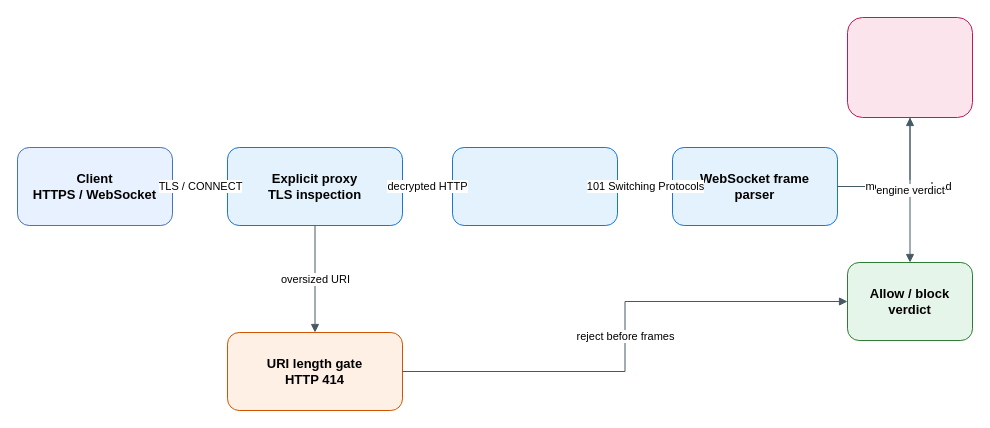
Some shapes in this 990 by 428 pixel diagram are drawn without their labels. The centre of each missing label's shape, as x and y in pixels:
AV · IPS DLP · File Filter: the point at 909,67
HTTP Upgrade handshake: the point at 535,186
